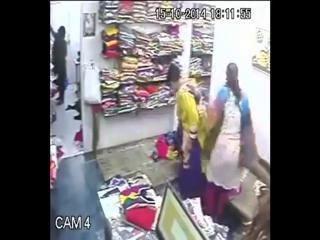shoplifting: (201, 62, 262, 224), (168, 62, 208, 198)
